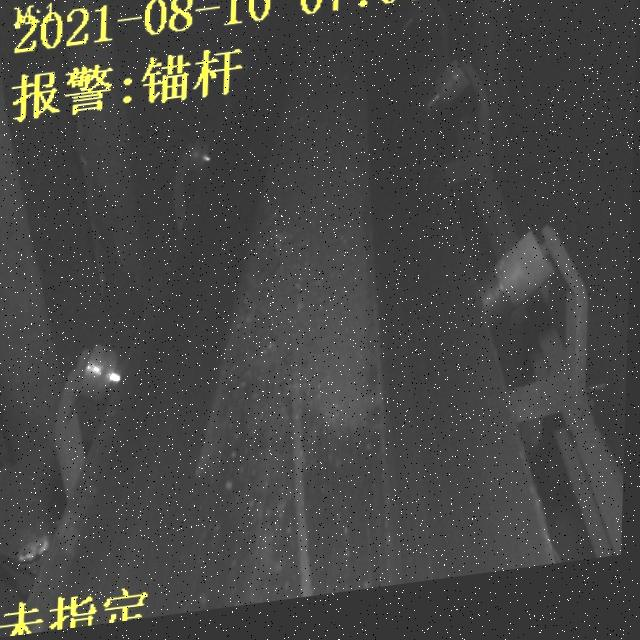bolt: (284, 355, 327, 609)
